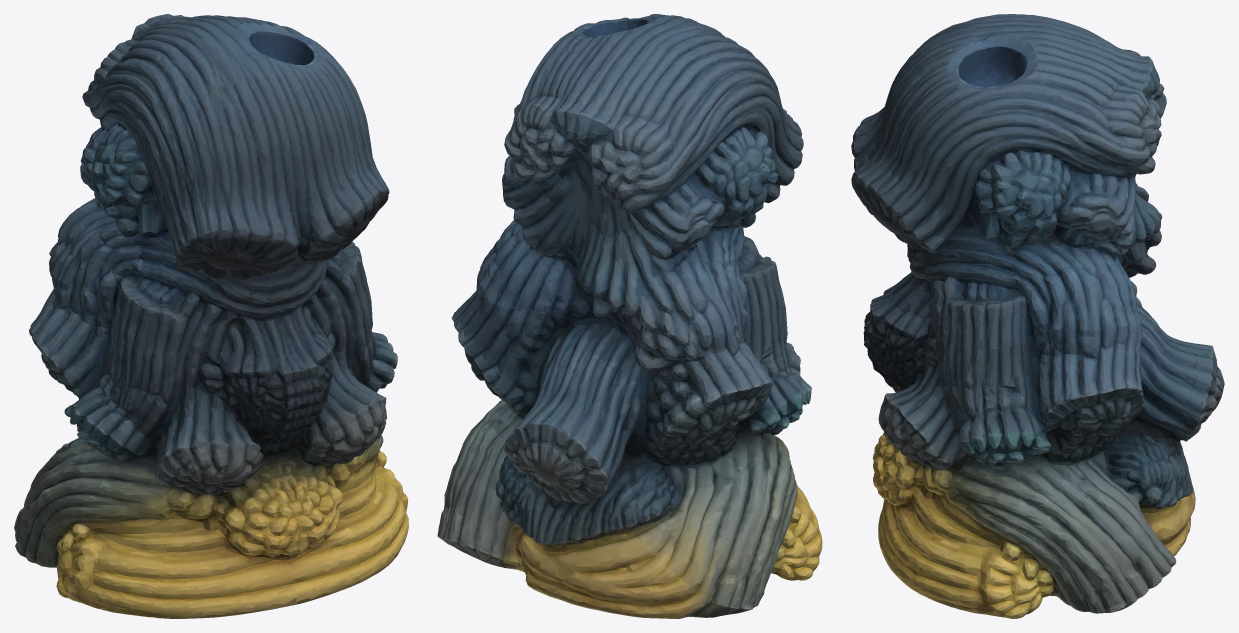
The model's file is 05_4_js_blob_candle1.glb.
3 views of the same model, side by side, from view 1: azimuth 30°, elevation 25°; view 2: azimuth 150°, elevation 25°; view 3: azimuth 270°, elevation 25° (orthographic). The views are drawn at different scales.
Parts seen in each view (by area): view 1: tripo_node_302fbb40-8182-466e-ab73-a4d370e7cff3; view 2: tripo_node_302fbb40-8182-466e-ab73-a4d370e7cff3; view 3: tripo_node_302fbb40-8182-466e-ab73-a4d370e7cff3.
Boxes of the visible parts, x1,y1,x2,y2 form: tripo_node_302fbb40-8182-466e-ab73-a4d370e7cff3: (14,14,408,618); tripo_node_302fbb40-8182-466e-ab73-a4d370e7cff3: (437,14,822,618); tripo_node_302fbb40-8182-466e-ab73-a4d370e7cff3: (851,14,1224,618).
Bounding box in the file's own units: 0.1355 × 0.2 × 0.133.
Materials: 1 (1 with a texture image).
